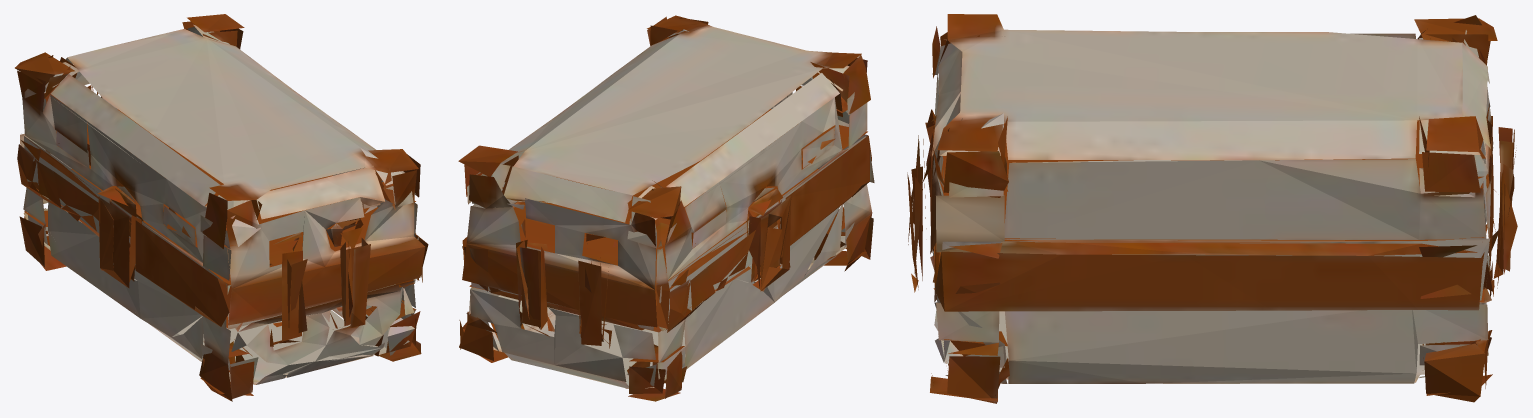
Rendered from conteneur-cargo-bas.glb.
3 views of the same model, side by side, from view 1: azimuth 30°, elevation 25°; view 2: azimuth 150°, elevation 25°; view 3: azimuth 270°, elevation 25° (orthographic). The views are drawn at different scales.
Parts seen in each view (by area): view 1: conteneur-cargo-v2-bas; view 2: conteneur-cargo-v2-bas; view 3: conteneur-cargo-v2-bas.
Boxes of the visible parts, x1=… form: conteneur-cargo-v2-bas: x1=15, y1=14, x2=428, y2=401; conteneur-cargo-v2-bas: x1=458, y1=15, x2=874, y2=401; conteneur-cargo-v2-bas: x1=907, y1=14, x2=1517, y2=403.
Size of the model in its own units: 3.43 by 2.93 by 6.
1 material, 1 textured.
